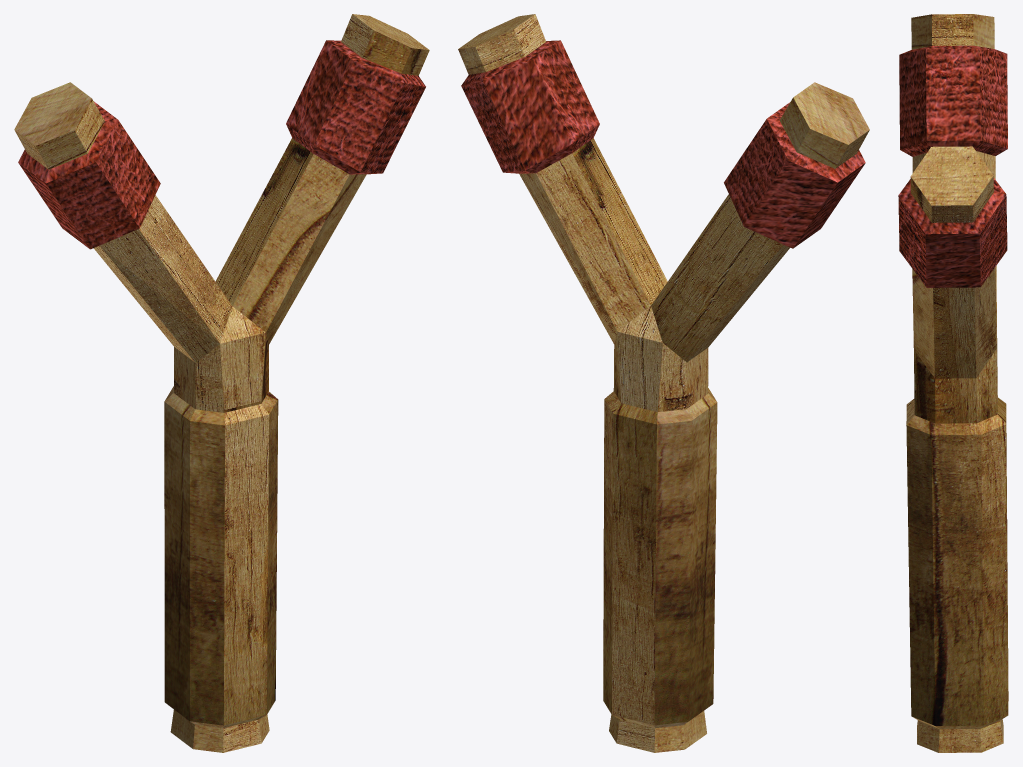
File: slingshot.obj
3 views of the same model, side by side, from view 1: azimuth 30°, elevation 25°; view 2: azimuth 150°, elevation 25°; view 3: azimuth 270°, elevation 25° (orthographic). The views are drawn at different scales.
Visible parts, largest first — view 1: Slingshot_Cylinder.002; view 2: Slingshot_Cylinder.002; view 3: Slingshot_Cylinder.002.
Part boxes in pixels (x1,y1,x2,y2): Slingshot_Cylinder.002: (14, 14, 429, 752); Slingshot_Cylinder.002: (458, 14, 869, 752); Slingshot_Cylinder.002: (898, 14, 1008, 752).
Size of the model in its own units: 18.67 by 30.79 by 4.69.
2 materials, 2 textured.
